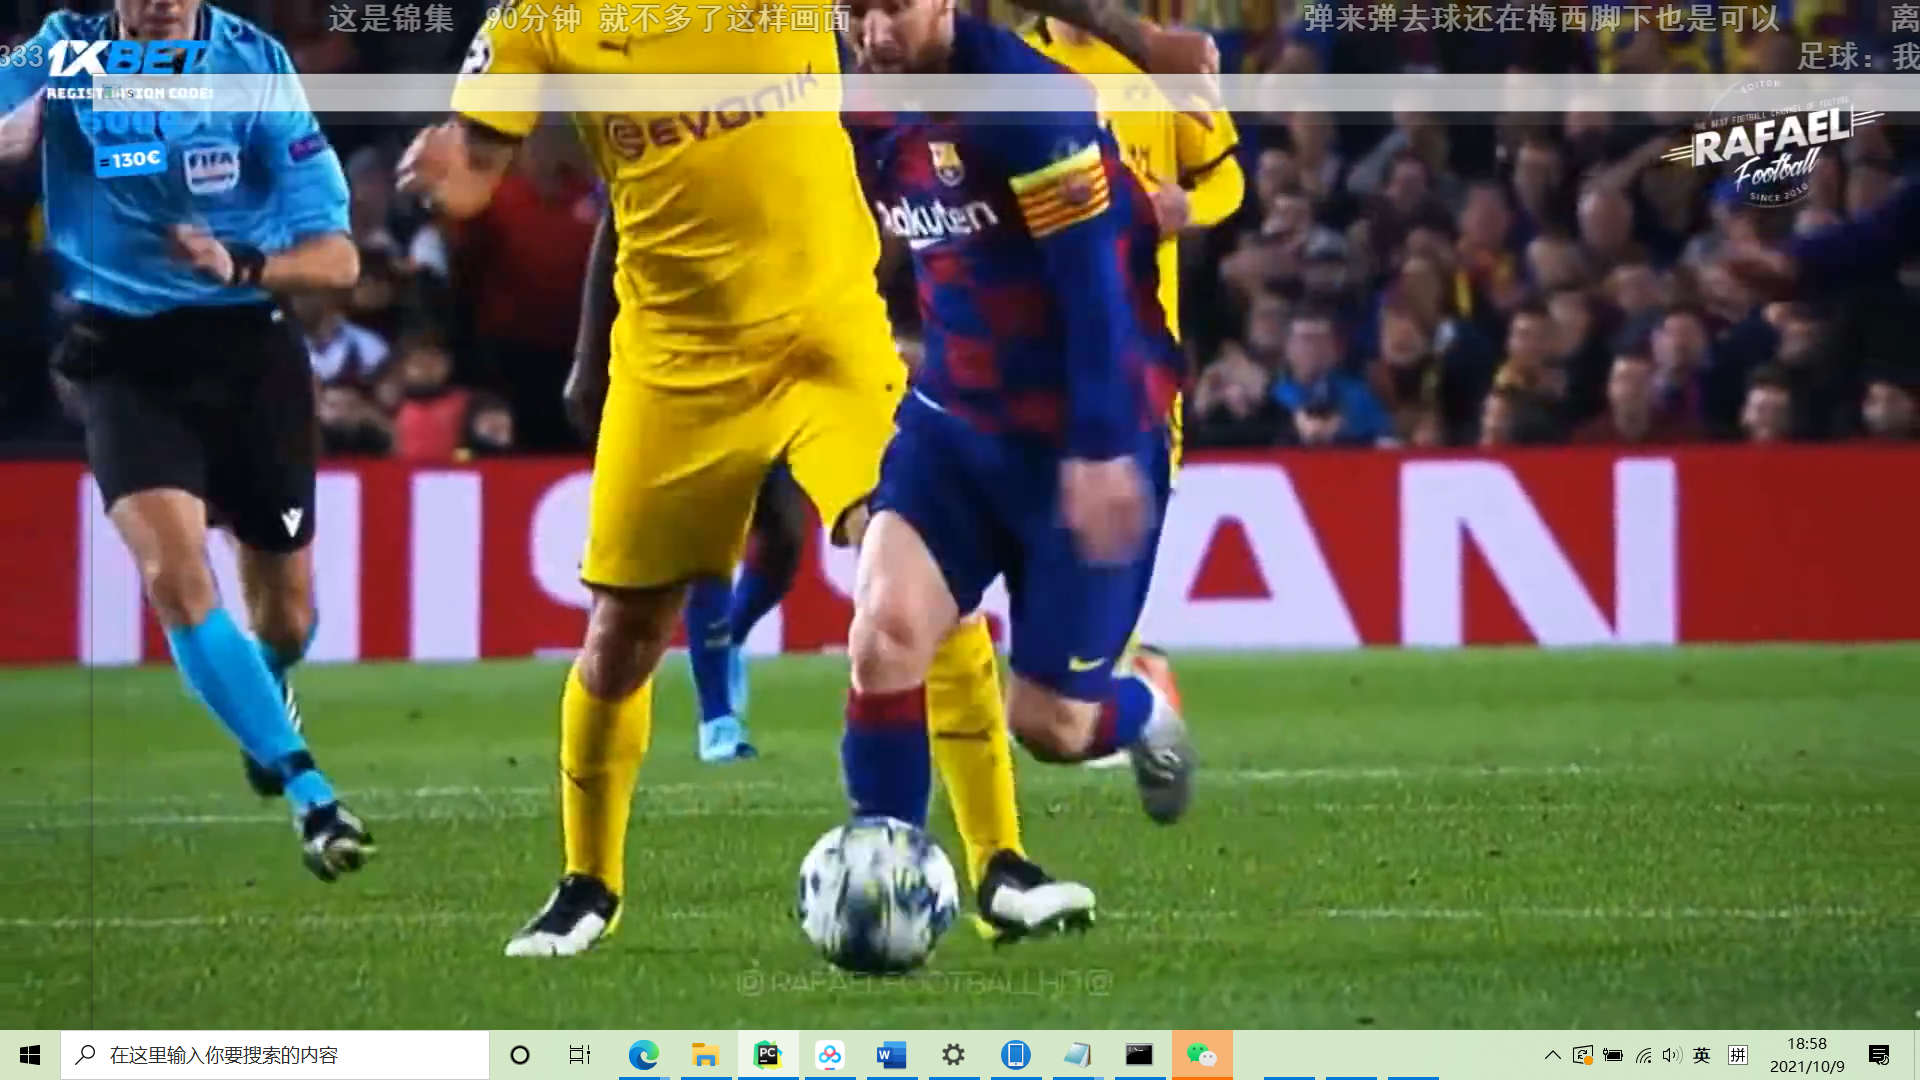ft: (785, 816, 963, 975)
